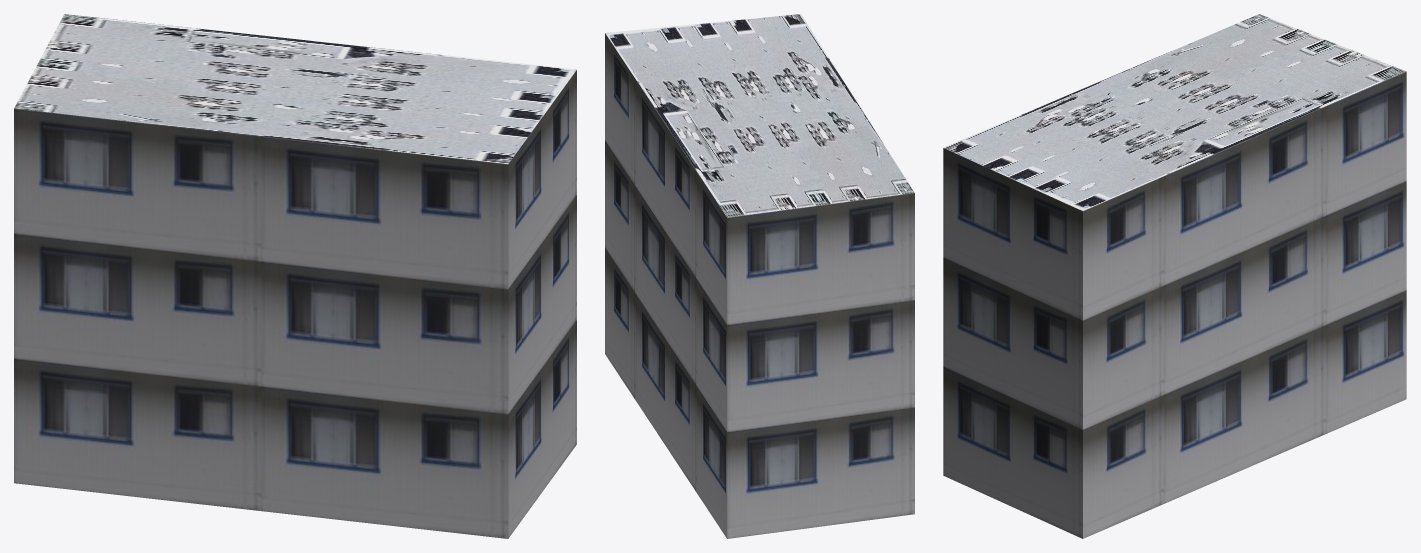
The model's file is ResTex__2891.fbx.
The picture shows the model from 3 angles, left to right: view 1: azimuth 30°, elevation 25°; view 2: azimuth 150°, elevation 25°; view 3: azimuth 270°, elevation 25°; orthographic projection. The views are drawn at different scales.
Visible parts, largest first — view 1: CityEngineMaterial_9_m, CityEngineMaterial_2_m; view 2: CityEngineMaterial_9_m, CityEngineMaterial_2_m; view 3: CityEngineMaterial_9_m, CityEngineMaterial_2_m.
Boxes of the visible parts, x1,y1,x2,y2 form: CityEngineMaterial_9_m: (14, 70, 576, 538); CityEngineMaterial_2_m: (14, 14, 576, 164); CityEngineMaterial_9_m: (605, 33, 914, 538); CityEngineMaterial_2_m: (605, 14, 914, 217); CityEngineMaterial_9_m: (943, 71, 1406, 538); CityEngineMaterial_2_m: (943, 14, 1406, 210).
Size of the model in its own units: 11.61 by 9 by 11.53.
Materials: 2 (2 with a texture image).
